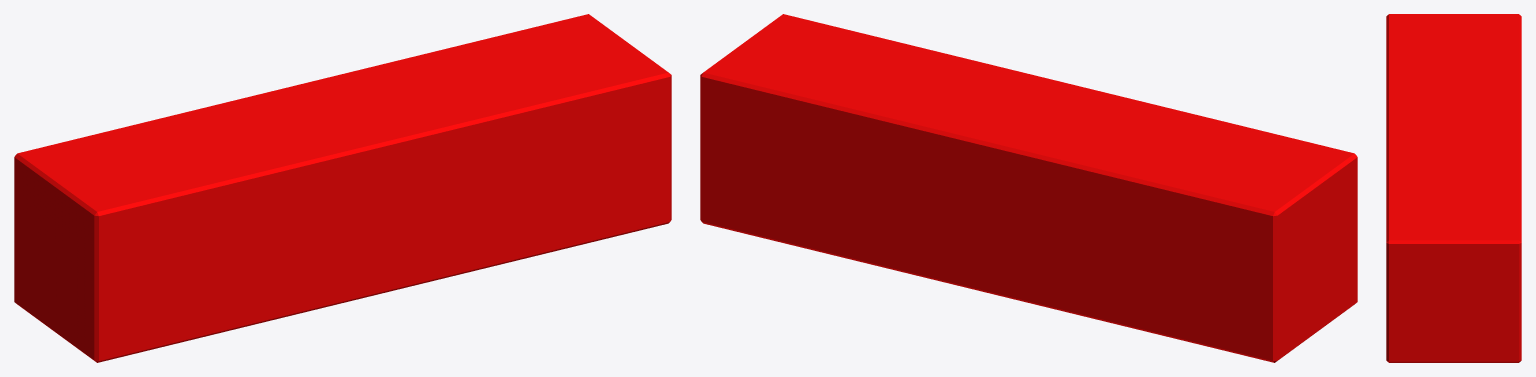
Rendered from Standardbrick.fbx.
3 renders of one model, left to right at view 1: azimuth 30°, elevation 25°; view 2: azimuth 150°, elevation 25°; view 3: azimuth 270°, elevation 25°, orthographic. The views are drawn at different scales.
Parts seen in each view (by area): view 1: Würfel; view 2: Würfel; view 3: Würfel.
Boxes of the visible parts, x1,y1,x2,y2 form: Würfel: (14, 14, 671, 362); Würfel: (700, 14, 1357, 362); Würfel: (1386, 14, 1521, 362).
Bounding box in the file's own units: 20 × 5 × 5.
